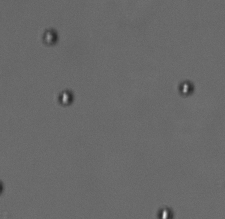Living Cell: (57, 88, 73, 107), (42, 28, 56, 45), (178, 78, 191, 96)
